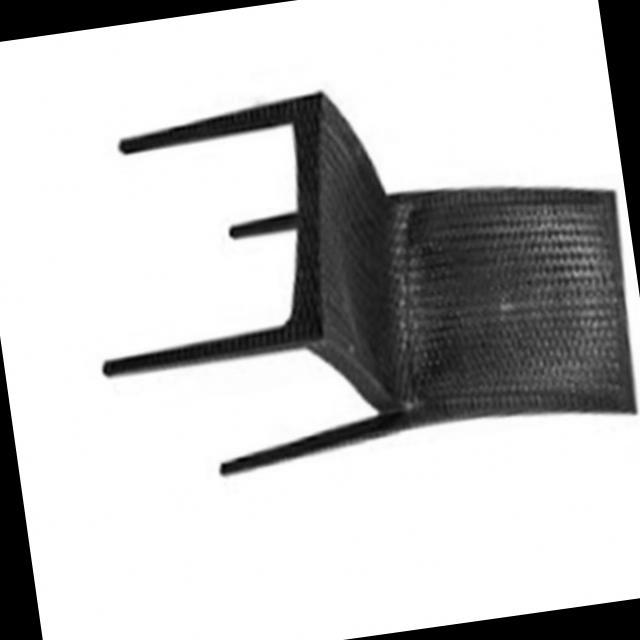chair: (65, 44, 640, 496)
